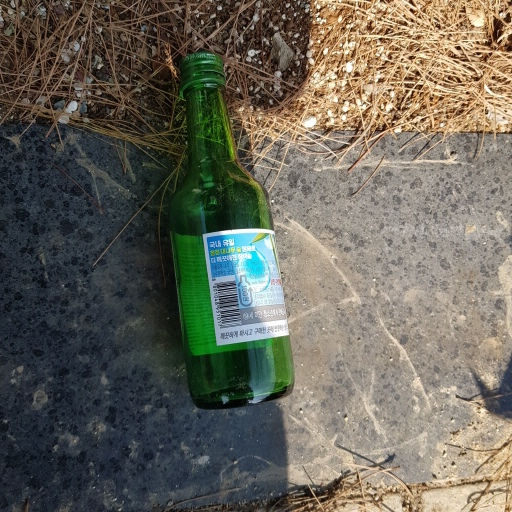Glass_0: (161, 52, 297, 408)
